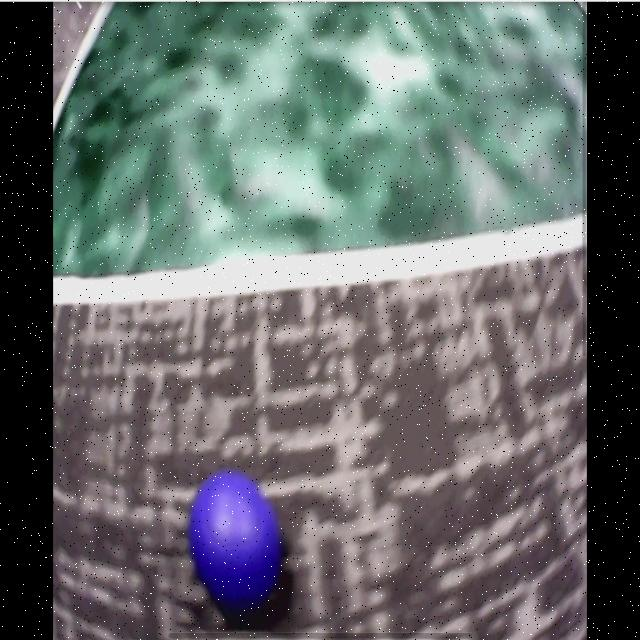ball: (190, 471, 276, 602)
